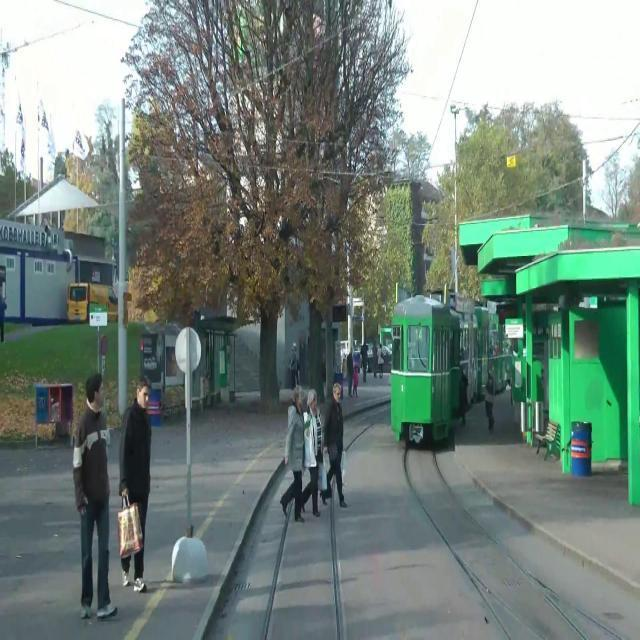rail: (221, 402, 396, 640)
